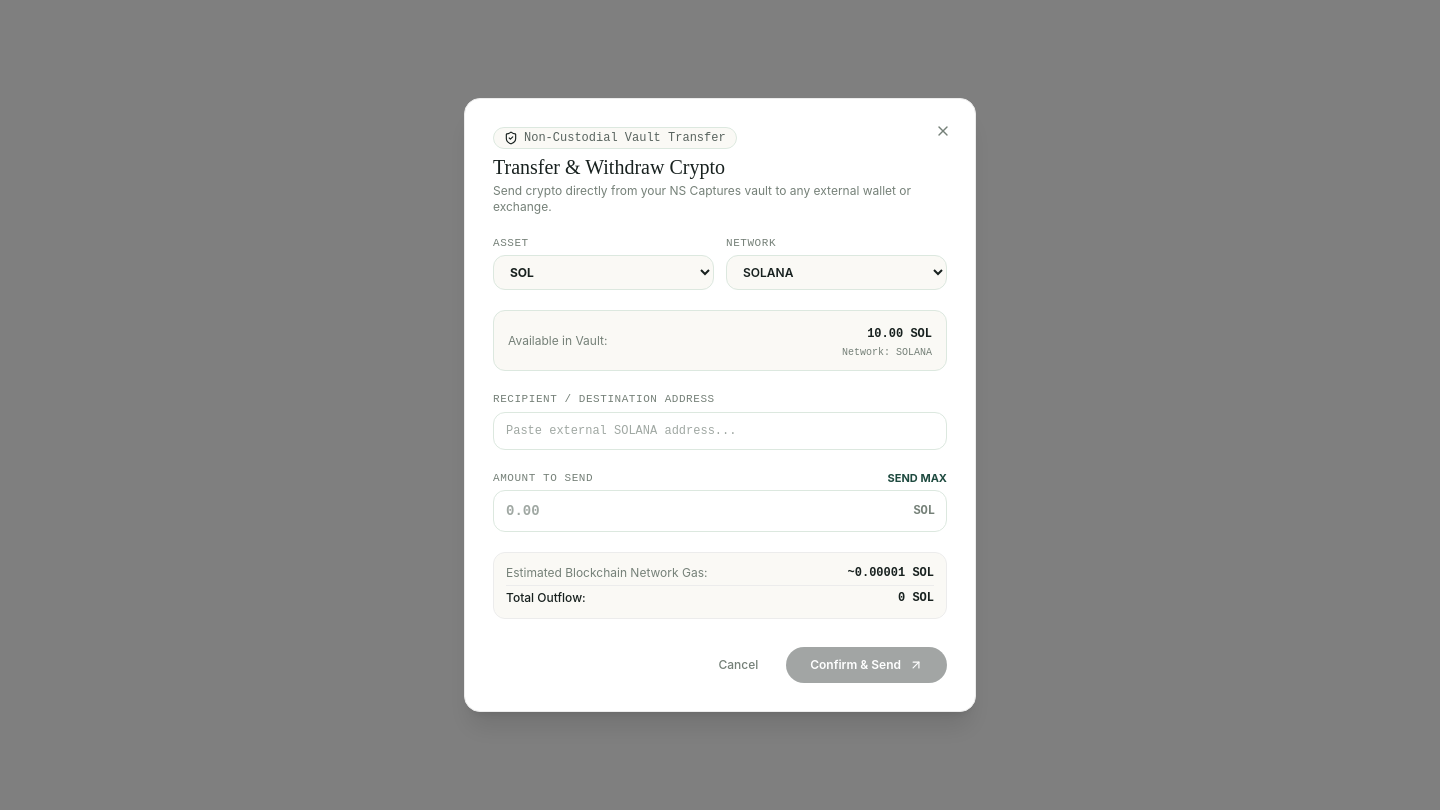
Test case: TransferCryptoModal › validates Solana address: rejects invalid characters, accepts valid Base58 address
Type "0xInvalidSolanaAddressWithBadChars!" into the field with placeholder "Paste external SOLANA address..." at (720, 431), box top-left (493, 412), bottom-right (947, 450)
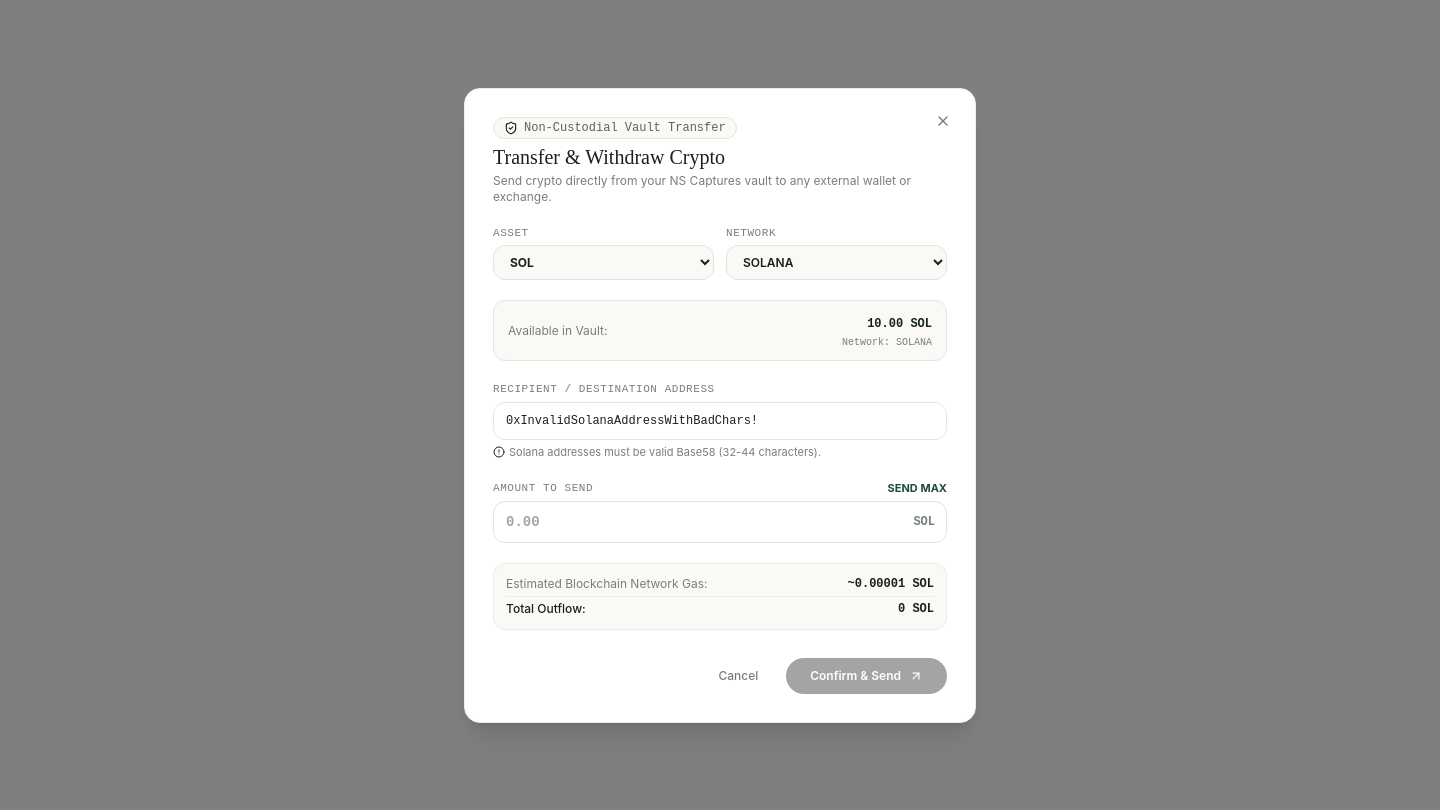
Check: the text "Solana addresses must be valid Base58 (32-44 characters)." is shown, box top-left (509, 444), bottom-right (821, 460)
# Valid: 44-char base58 address
Replace the text in the field with placeholder "Paste external SOLANA address..." with "9WzDXwBbmkg8ZTbNMqUxvQRAyrZzDsGYdLVL9zYtAWWM" at (720, 420), box top-left (493, 402), bottom-right (947, 440)
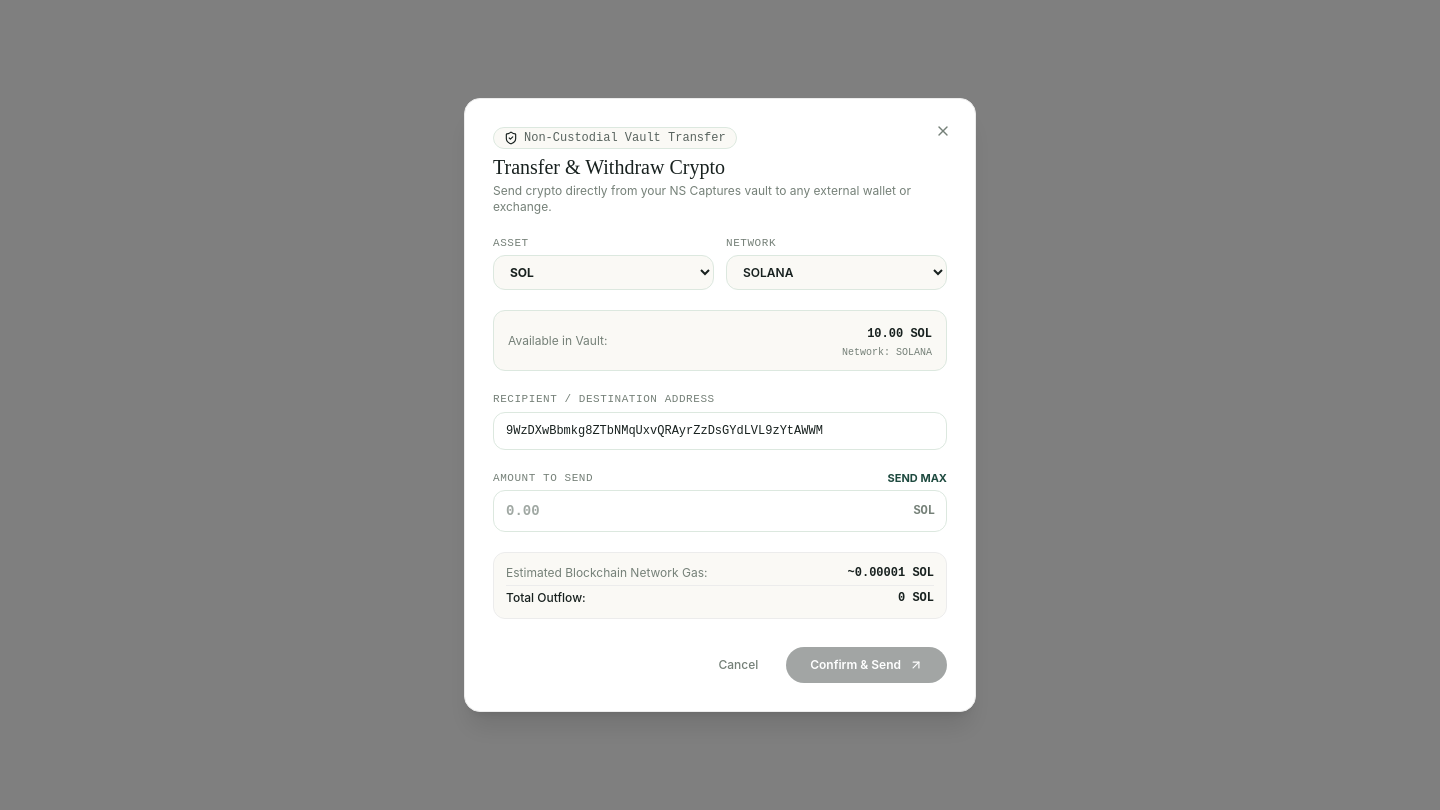
Check: the text "Solana addresses must be valid Base58 (32-44 characters)." is gone
